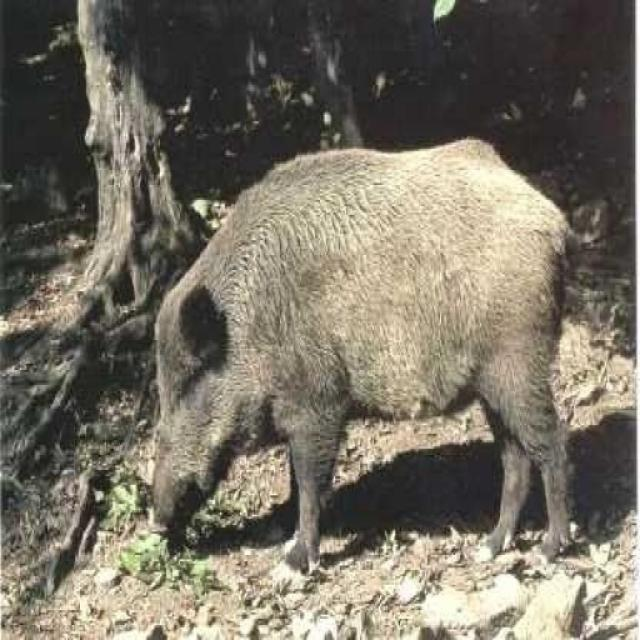pig: (122, 132, 640, 545)
